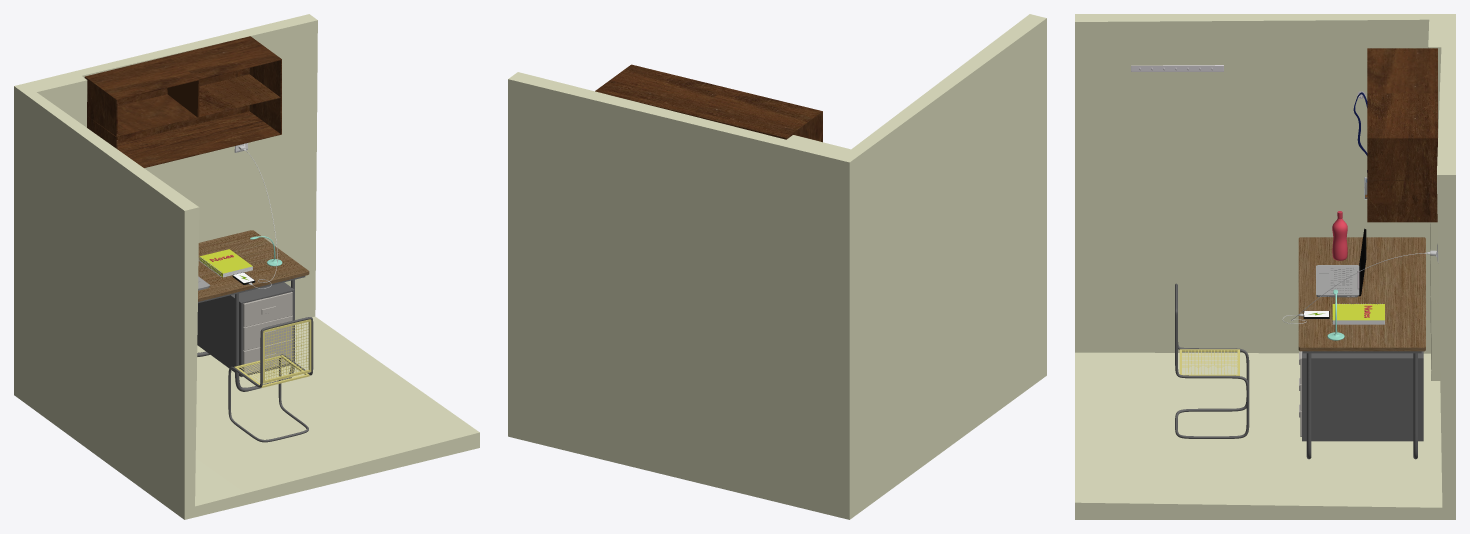
File: isoRoom-transformed.glb
3 views of the same model, side by side, from view 1: azimuth 30°, elevation 25°; view 2: azimuth 150°, elevation 25°; view 3: azimuth 270°, elevation 25° (orthographic). The views are drawn at different scales.
Parts seen in each view (by area): view 1: wall, container, tableTop, cupboardCover, chairNet1, chairMetal, cupboard1, cupboard2, notebook, cupboard3, chairNet2, tableLeg2; view 2: wall, container; view 3: wall, container, tableTop, cupboardCover, chairMetal, chairNet2, tableLeg2, laptopCPU, notebook, hanger, bottle, laptopKeyboard.
Part boxes in pixels (x1=…): wall: x1=14, y1=14, x2=479, y2=519; container: x1=84, y1=36, x2=281, y2=167; tableTop: x1=198, y1=230, x2=309, y2=301; cupboardCover: x1=197, y1=282, x2=294, y2=376; chairNet1: x1=262, y1=319, x2=311, y2=383; chairMetal: x1=228, y1=317, x2=313, y2=442; cupboard1: x1=243, y1=292, x2=292, y2=327; cupboard2: x1=243, y1=315, x2=292, y2=350; notebook: x1=198, y1=249, x2=252, y2=277; cupboard3: x1=243, y1=339, x2=292, y2=373; chairNet2: x1=234, y1=355, x2=309, y2=387; tableLeg2: x1=197, y1=279, x2=294, y2=391; wall: x1=508, y1=14, x2=1046, y2=519; container: x1=595, y1=64, x2=822, y2=142; wall: x1=1075, y1=14, x2=1455, y2=519; container: x1=1367, y1=48, x2=1437, y2=222; tableTop: x1=1298, y1=237, x2=1425, y2=351; cupboardCover: x1=1302, y1=351, x2=1423, y2=441; chairMetal: x1=1175, y1=283, x2=1249, y2=438; chairNet2: x1=1179, y1=349, x2=1239, y2=375; tableLeg2: x1=1306, y1=353, x2=1417, y2=459; laptopCPU: x1=1316, y1=265, x2=1359, y2=297; notebook: x1=1332, y1=303, x2=1384, y2=324; hanger: x1=1131, y1=65, x2=1223, y2=71; bottle: x1=1332, y1=218, x2=1347, y2=260; laptopKeyboard: x1=1330, y1=266, x2=1354, y2=293.
Size of the model in its own units: 2 by 2 by 2.
Materials: 26 (5 with a texture image).
